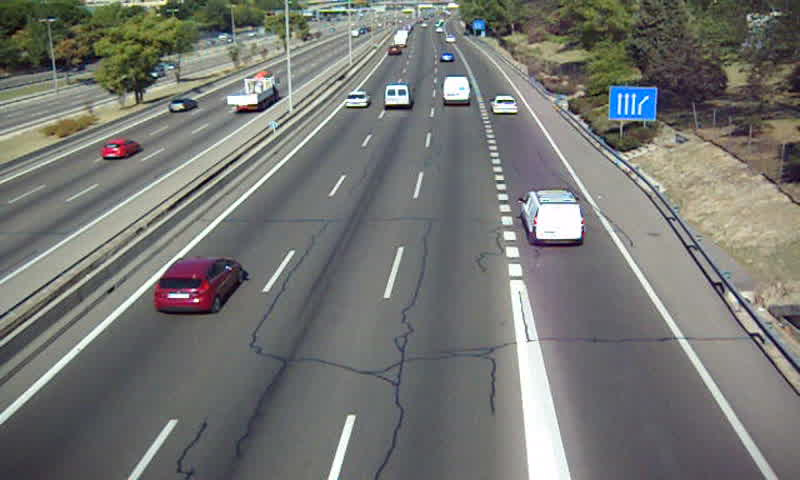car: (152, 256, 242, 314), (344, 89, 373, 110), (489, 94, 518, 114)
van: (522, 191, 584, 245), (444, 76, 472, 107), (383, 84, 415, 111)
